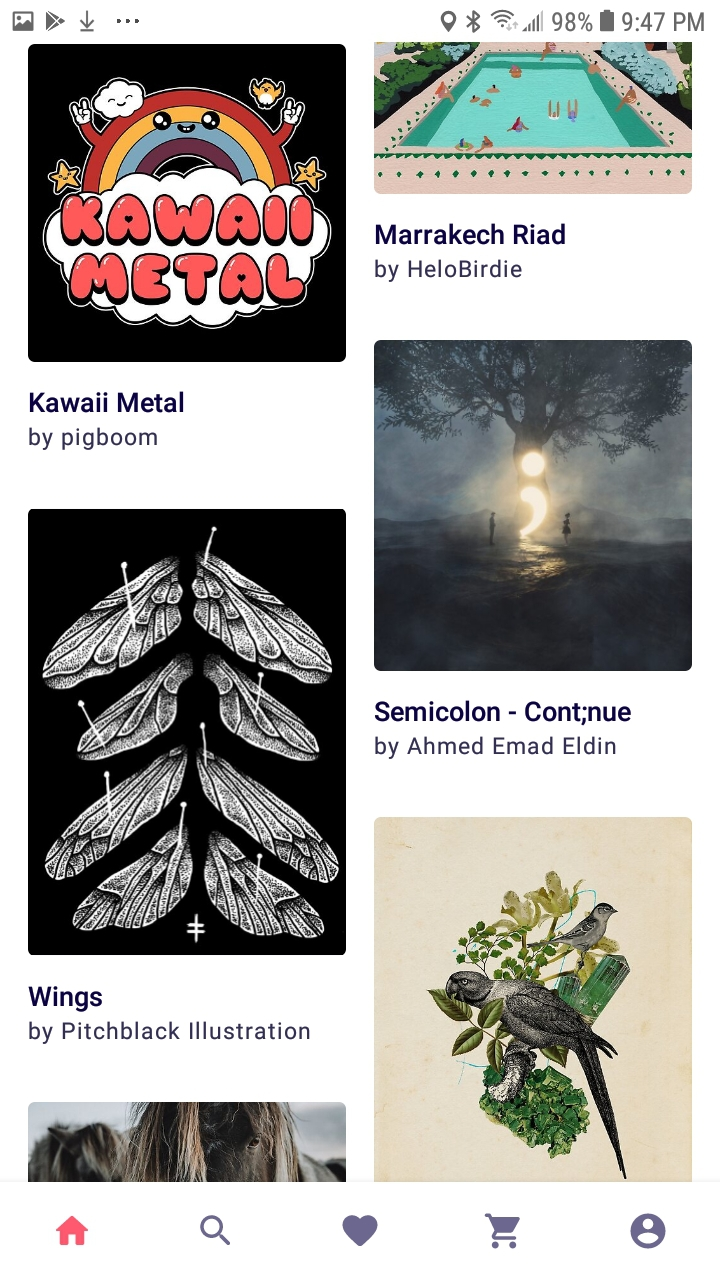Icon: (484, 1212, 521, 1249), (630, 1212, 667, 1249), (342, 1214, 379, 1247), (55, 1215, 90, 1246), (200, 1214, 231, 1246)
Image: (28, 509, 347, 956), (373, 817, 692, 1182), (374, 340, 693, 672), (28, 44, 347, 363), (374, 43, 692, 196), (28, 1101, 347, 1182)
Text: (29, 1020, 311, 1045), (374, 700, 632, 727), (374, 736, 615, 760), (375, 223, 566, 246), (375, 258, 523, 283), (29, 392, 185, 414), (29, 427, 158, 452), (30, 985, 104, 1013)
UpperTaskBar: (1, 1, 720, 35)
